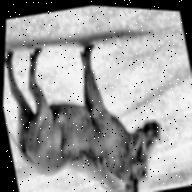boar: (0, 21, 178, 192)
